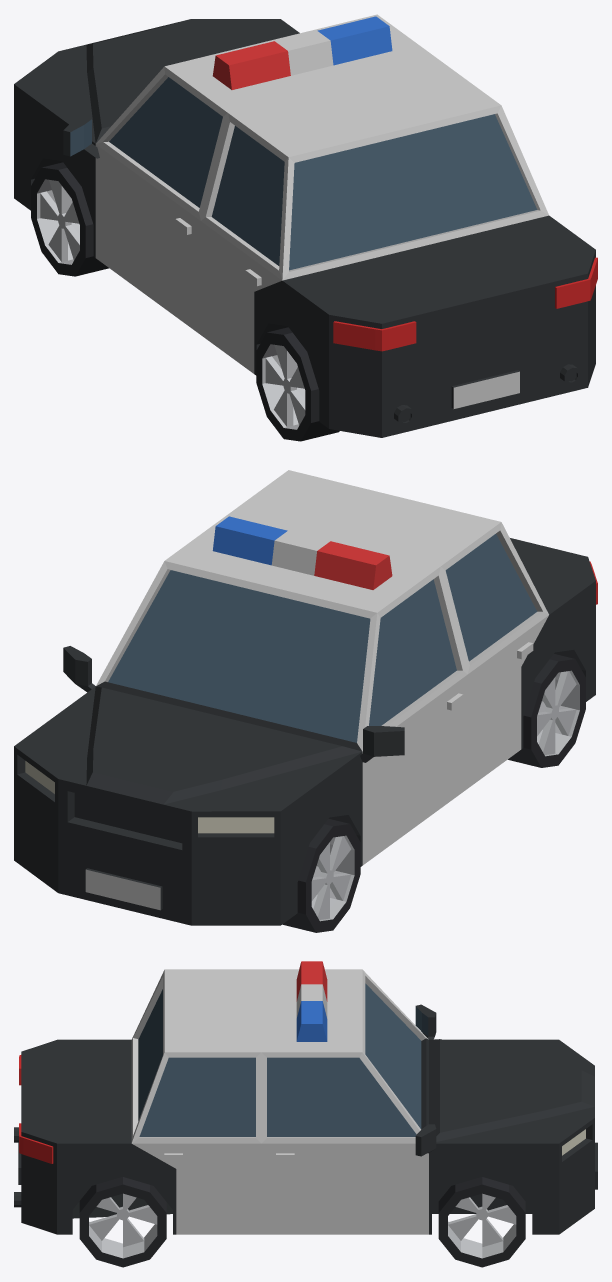
The model's file is police.glb.
The picture shows the model from 3 angles, top to bottom: view 1: azimuth 30°, elevation 25°; view 2: azimuth 150°, elevation 25°; view 3: azimuth 270°, elevation 25°; orthographic projection. The views are drawn at different scales.
Visible parts, largest first — view 1: Body, Wheel_RL, Wheel_FL; view 2: Body, Wheel_FL, Wheel_RL; view 3: Body, Wheel_FR, Wheel_RR.
Boxes of the visible parts, left/top/right/bottom form: Body: left=14, top=14, right=597, bottom=437; Wheel_RL: left=256, top=327, right=339, bottom=441; Wheel_FL: left=31, top=162, right=108, bottom=276; Body: left=14, top=470, right=597, bottom=925; Wheel_FL: left=282, top=818, right=360, bottom=932; Wheel_RL: left=508, top=654, right=585, bottom=767; Body: left=14, top=961, right=597, bottom=1234; Wheel_FR: left=438, top=1177, right=525, bottom=1267; Wheel_RR: left=79, top=1177, right=166, bottom=1267.
Size of the model in its own units: 2.81 by 2.19 by 5.23.
